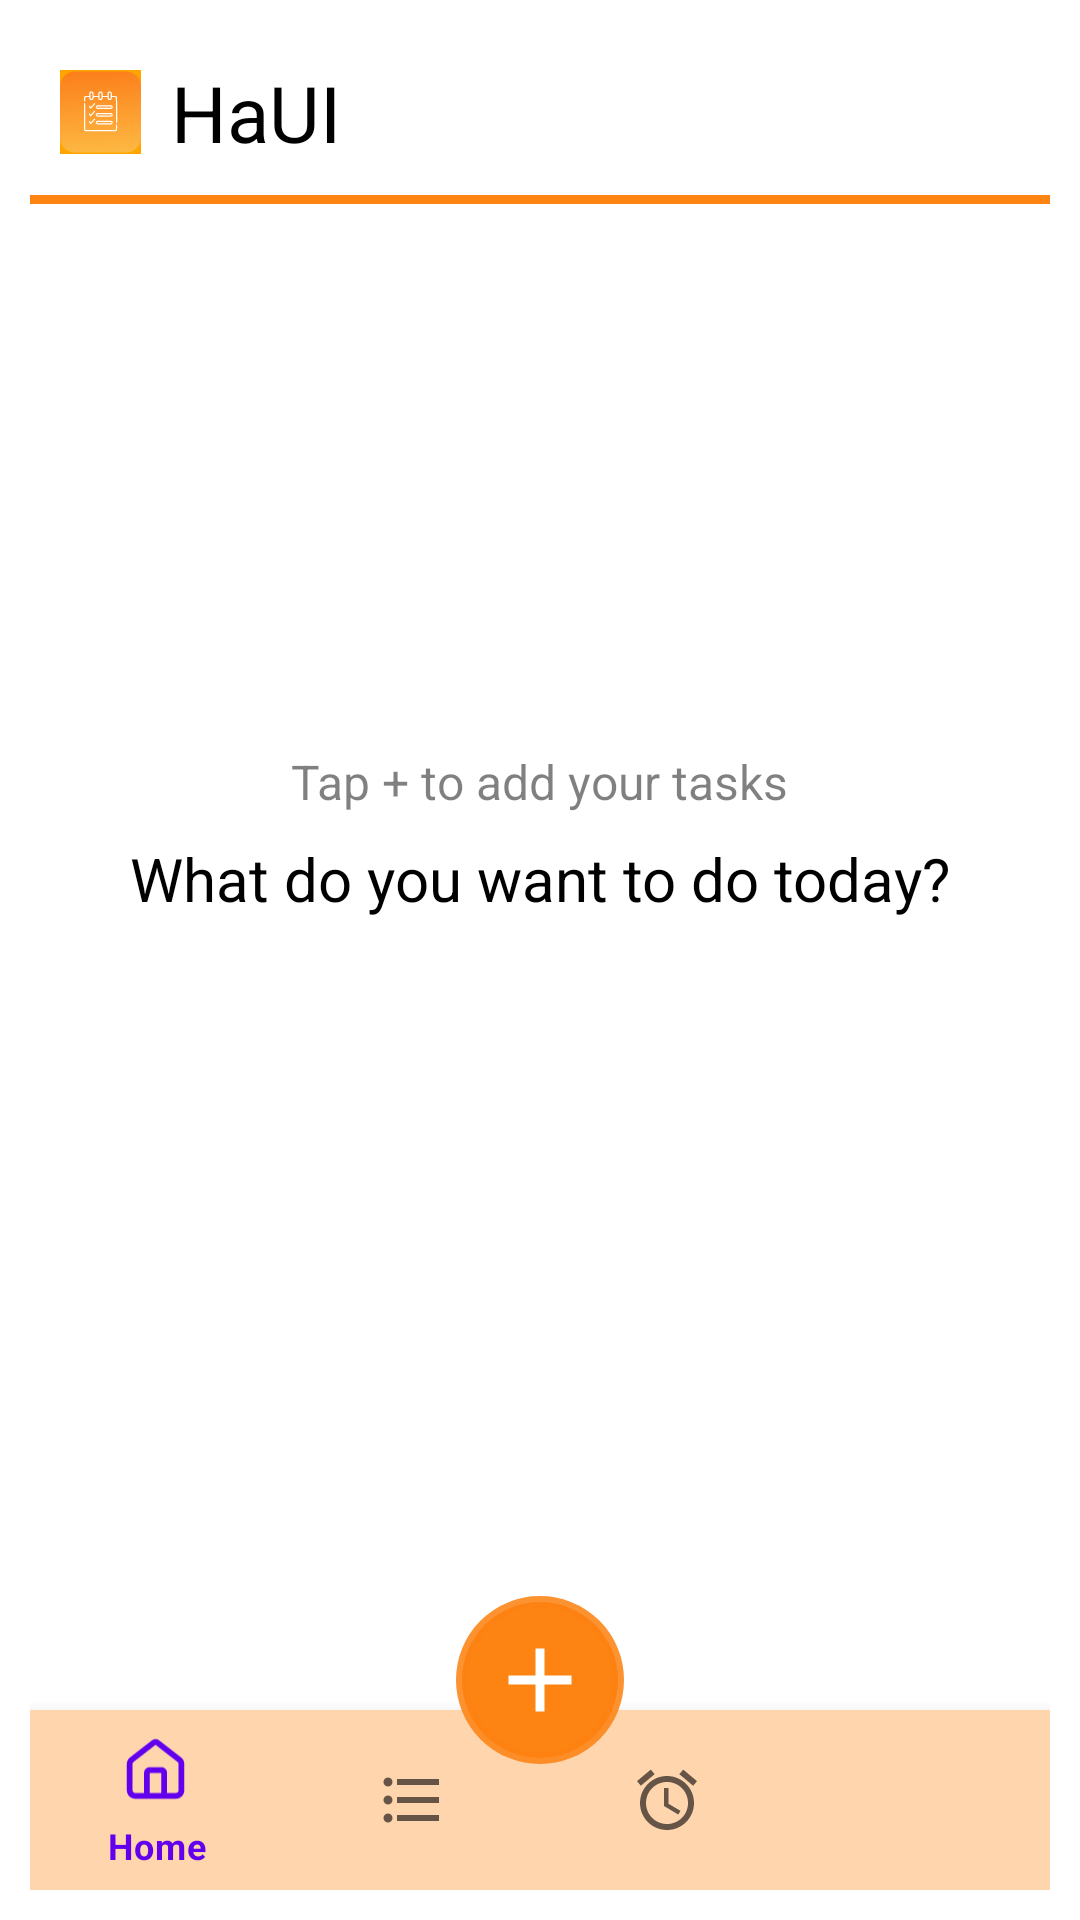

Screen size 1080w x 1920h. Icon name, then its center in pixels as point (x, y):
add: point (540, 1680)
